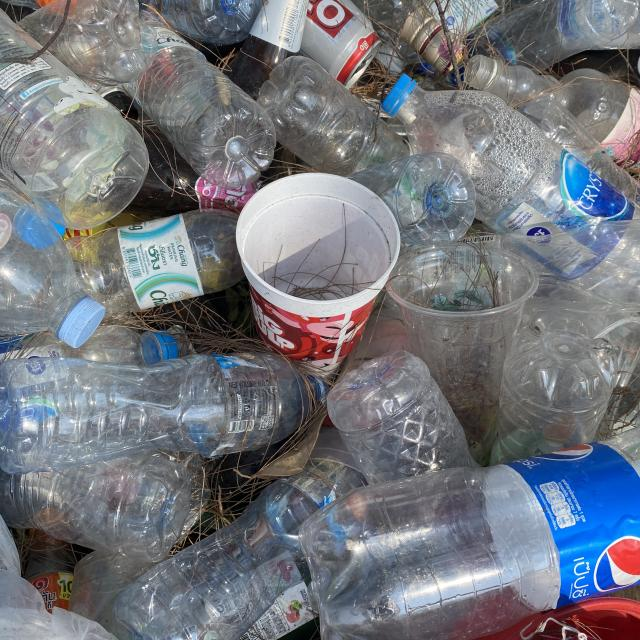Single-layer Plastic: (0, 516, 115, 640)
